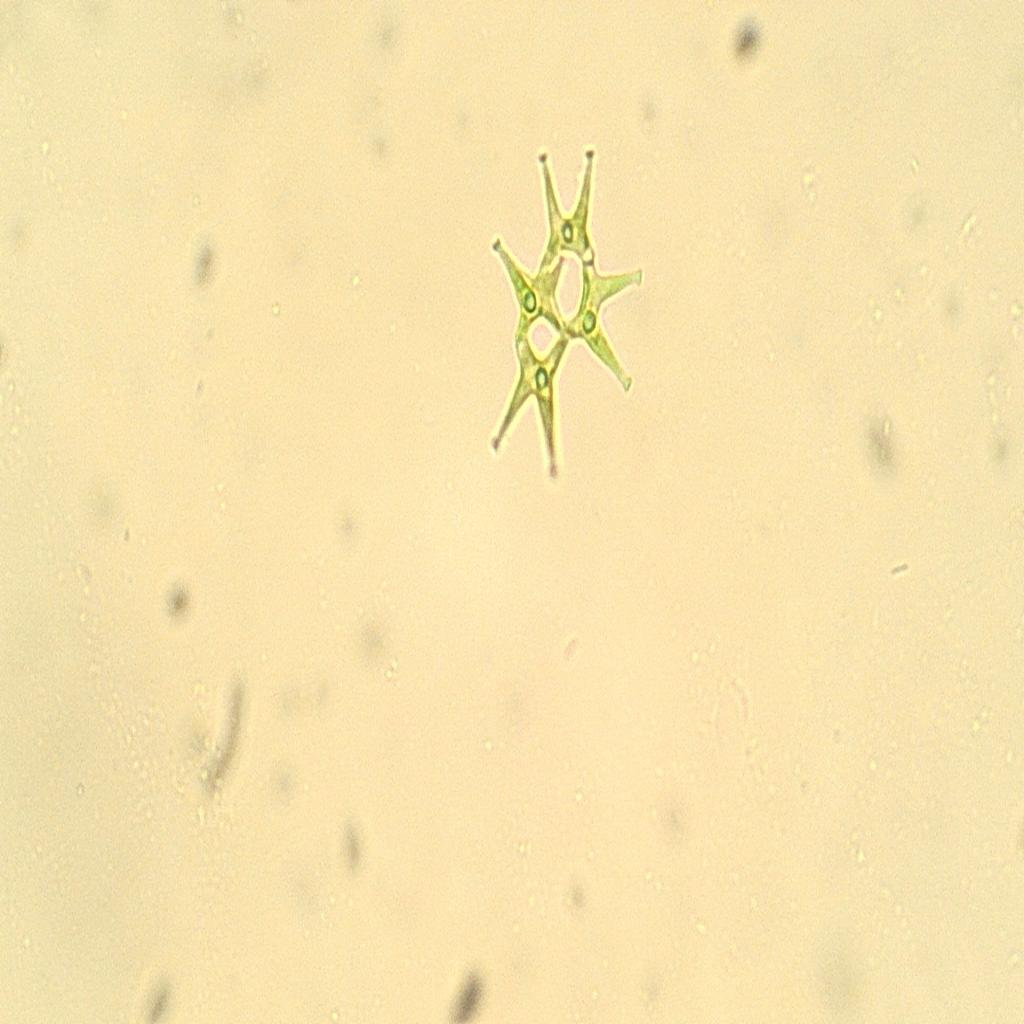Pediastrum_CF: (472, 132, 648, 498)
